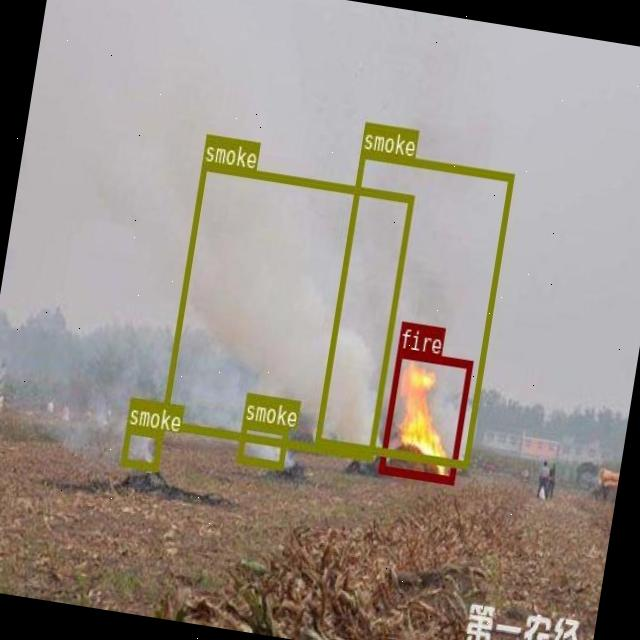fire: (378, 348, 472, 482)
smoke: (160, 160, 413, 460), (314, 148, 514, 468), (236, 419, 289, 468), (119, 425, 163, 469)
